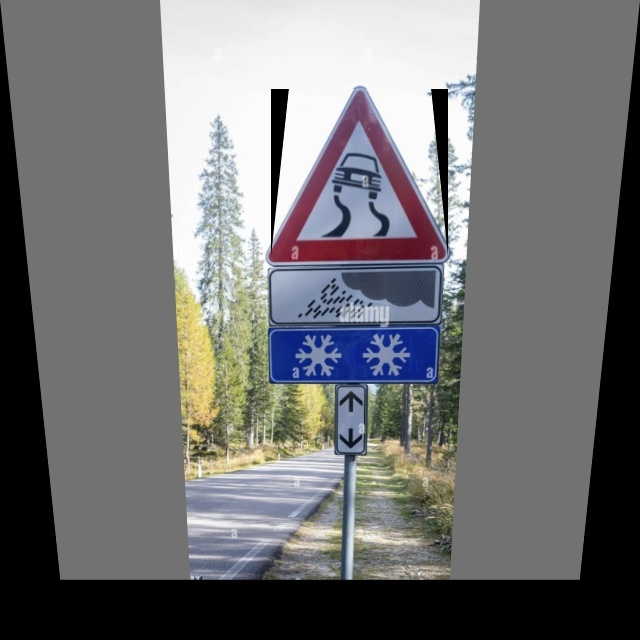Slippery_Road: (271, 89, 448, 257)
